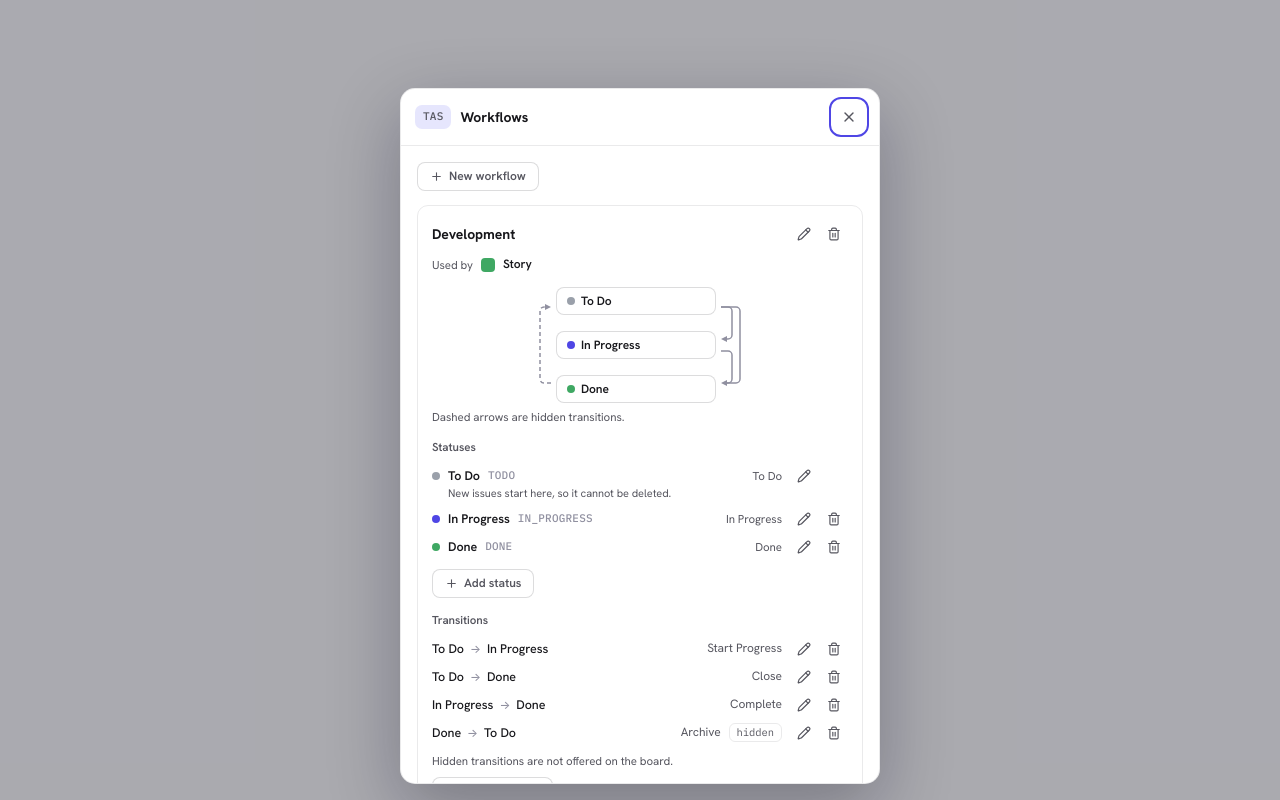
it: New workflow › sends the shared default verbatim with the name and the types, and re-reads before it closes
Click the button "New workflow".
click(478, 176)  # box [417, 162, 539, 191]
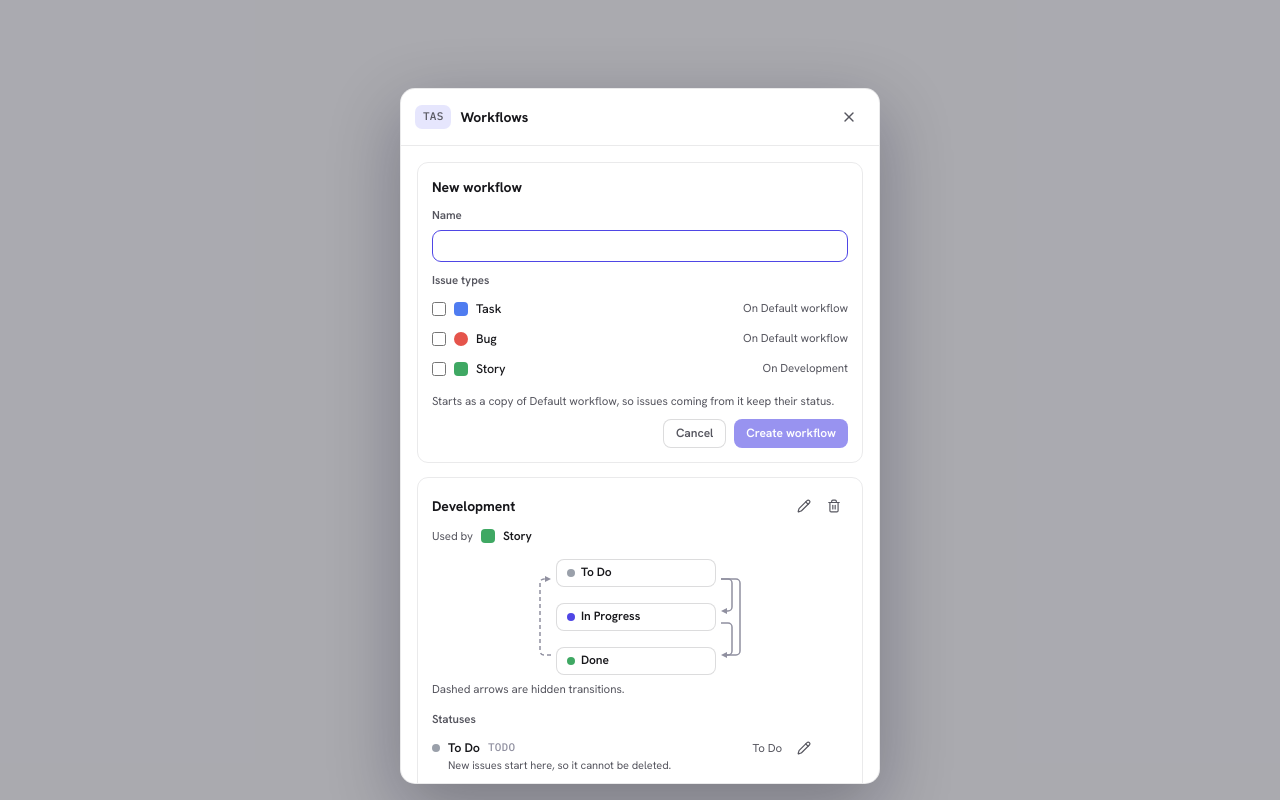
Type "  Bugs  " into the field labelled "Name".
click(640, 246); type("  Bugs  ")  # box [432, 230, 848, 262]
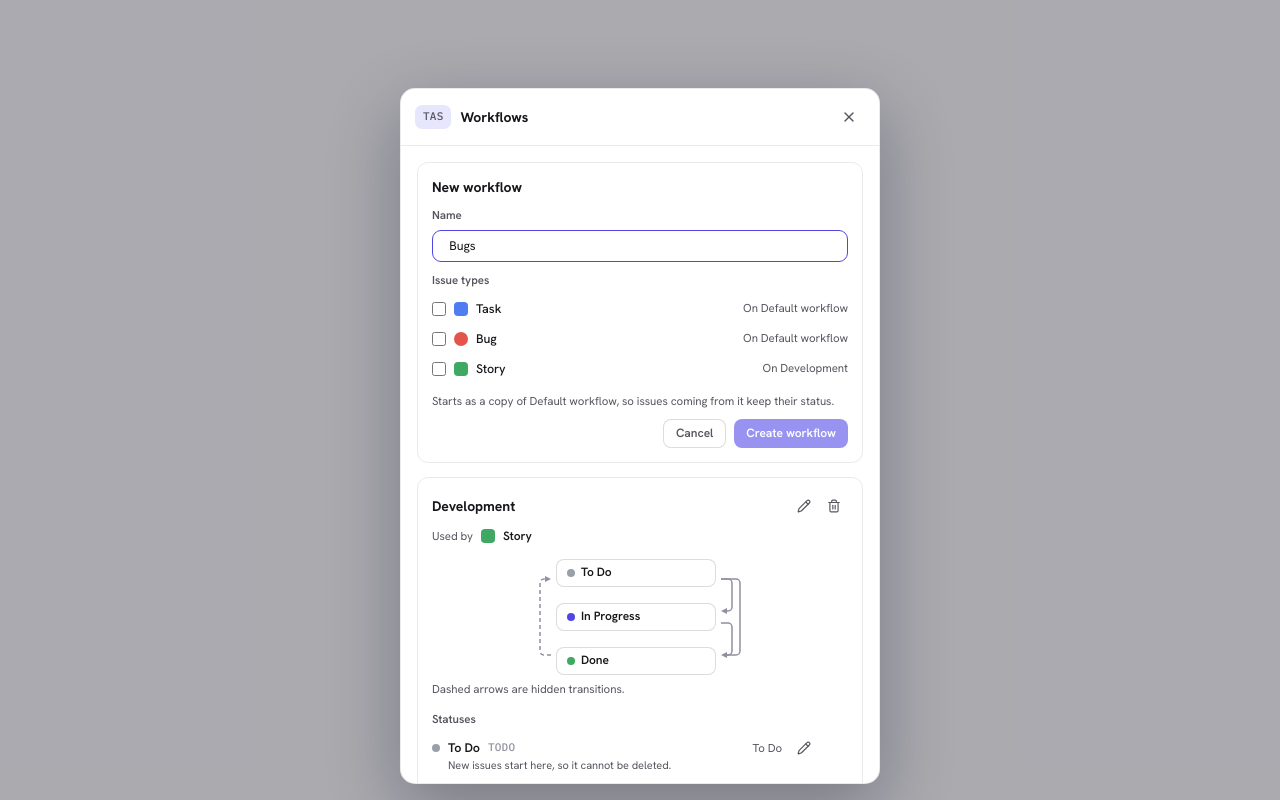
Click the checkbox labelled "Bug".
click(439, 339)  # box [432, 332, 446, 346]
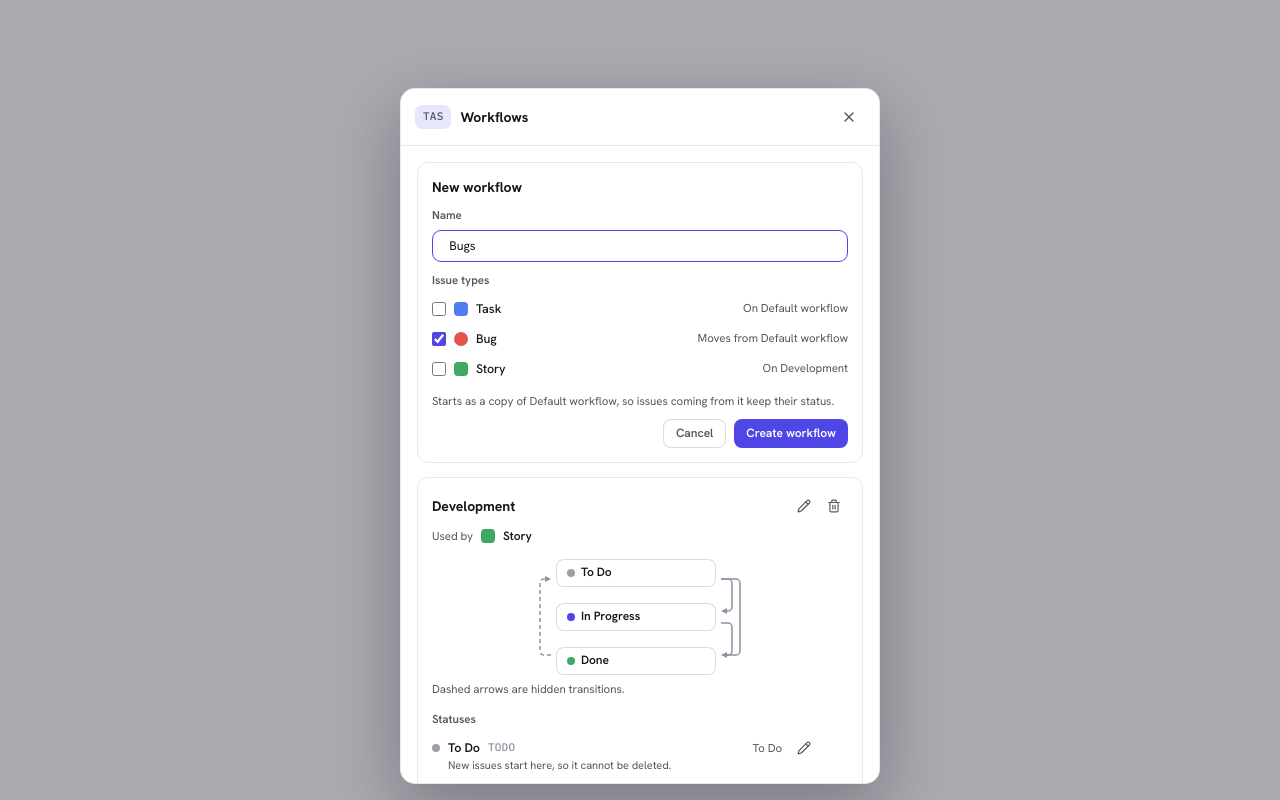
Expected: the text "Moves from Default workflow" is shown, [698, 330, 848, 347]
Click the button "Create workflow".
click(791, 433)  # box [734, 419, 848, 448]
(page scrolled)
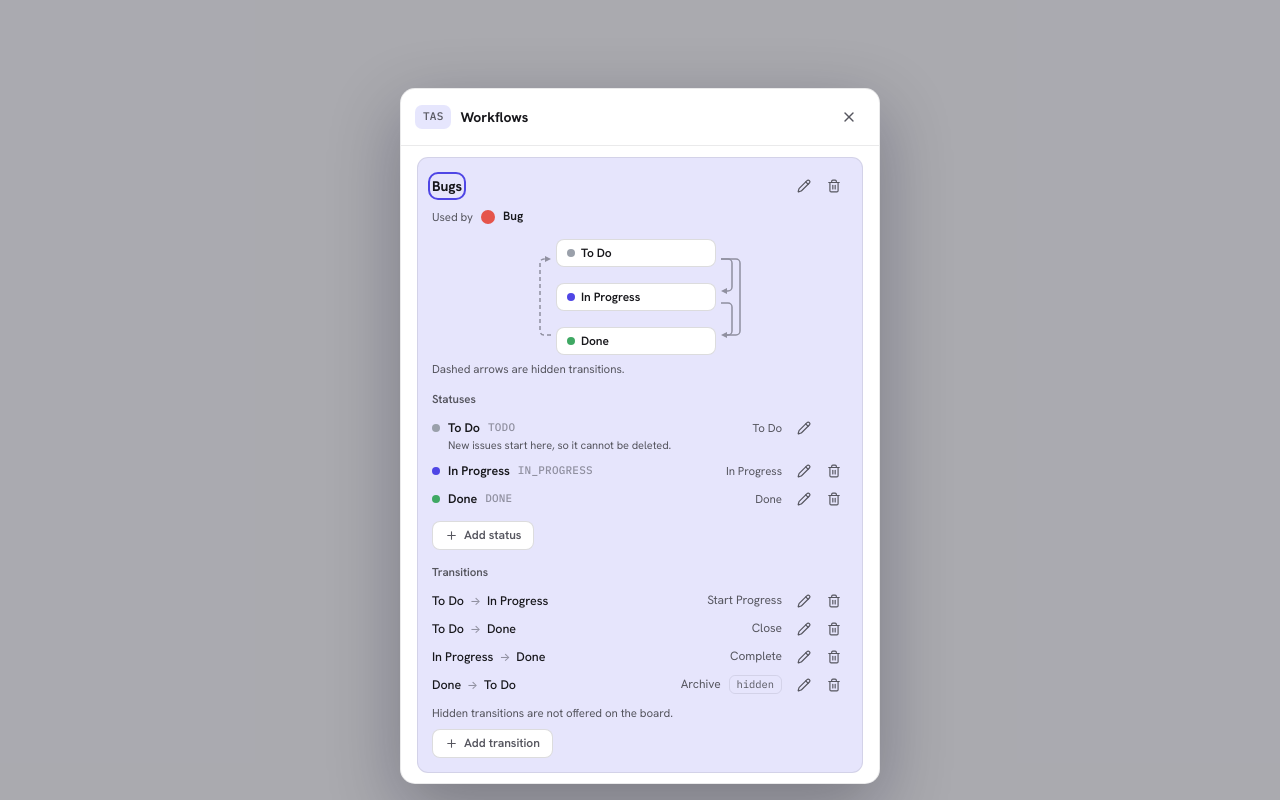
Expected: the heading "Bugs" is shown, [432, 176, 462, 196]
